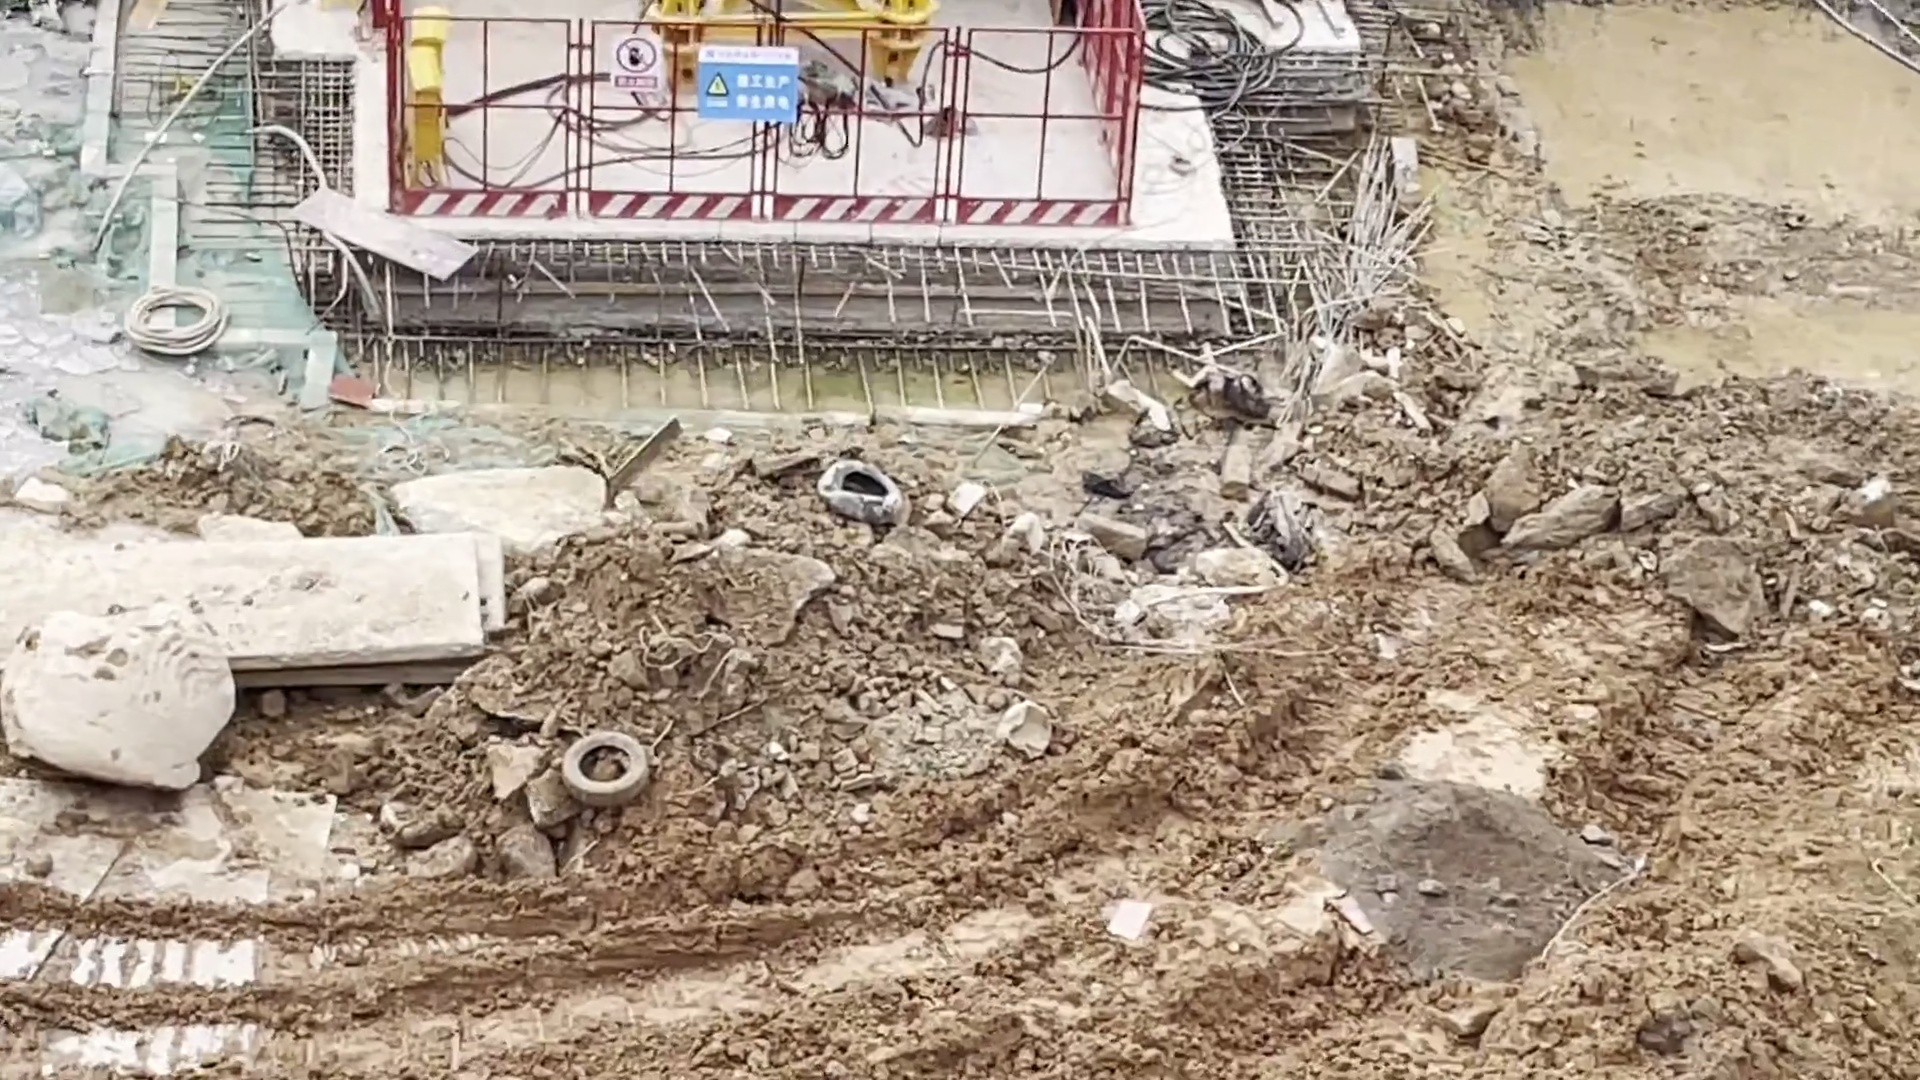ebox: (406, 8, 454, 186)
fence: (402, 13, 1130, 228)
slogan: (698, 47, 796, 119), (613, 40, 659, 88)
